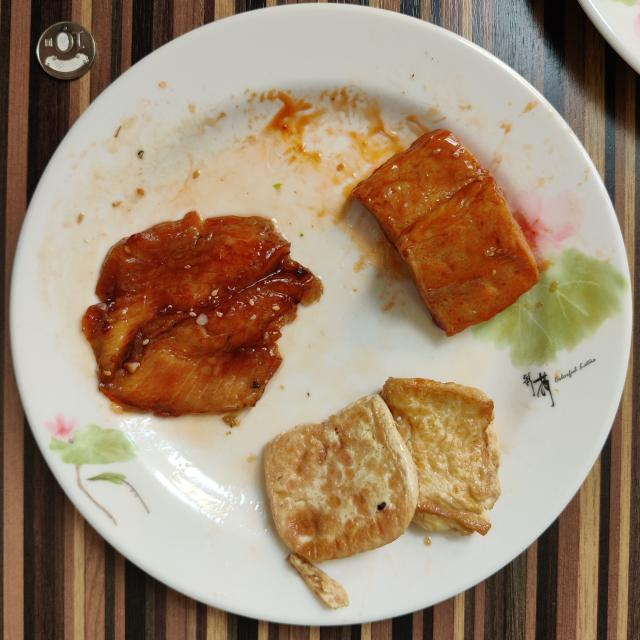Kabayaki sea bream fillet: (82, 211, 322, 415)
coin: (36, 21, 96, 80)
creamy tofu: (352, 130, 539, 335)
